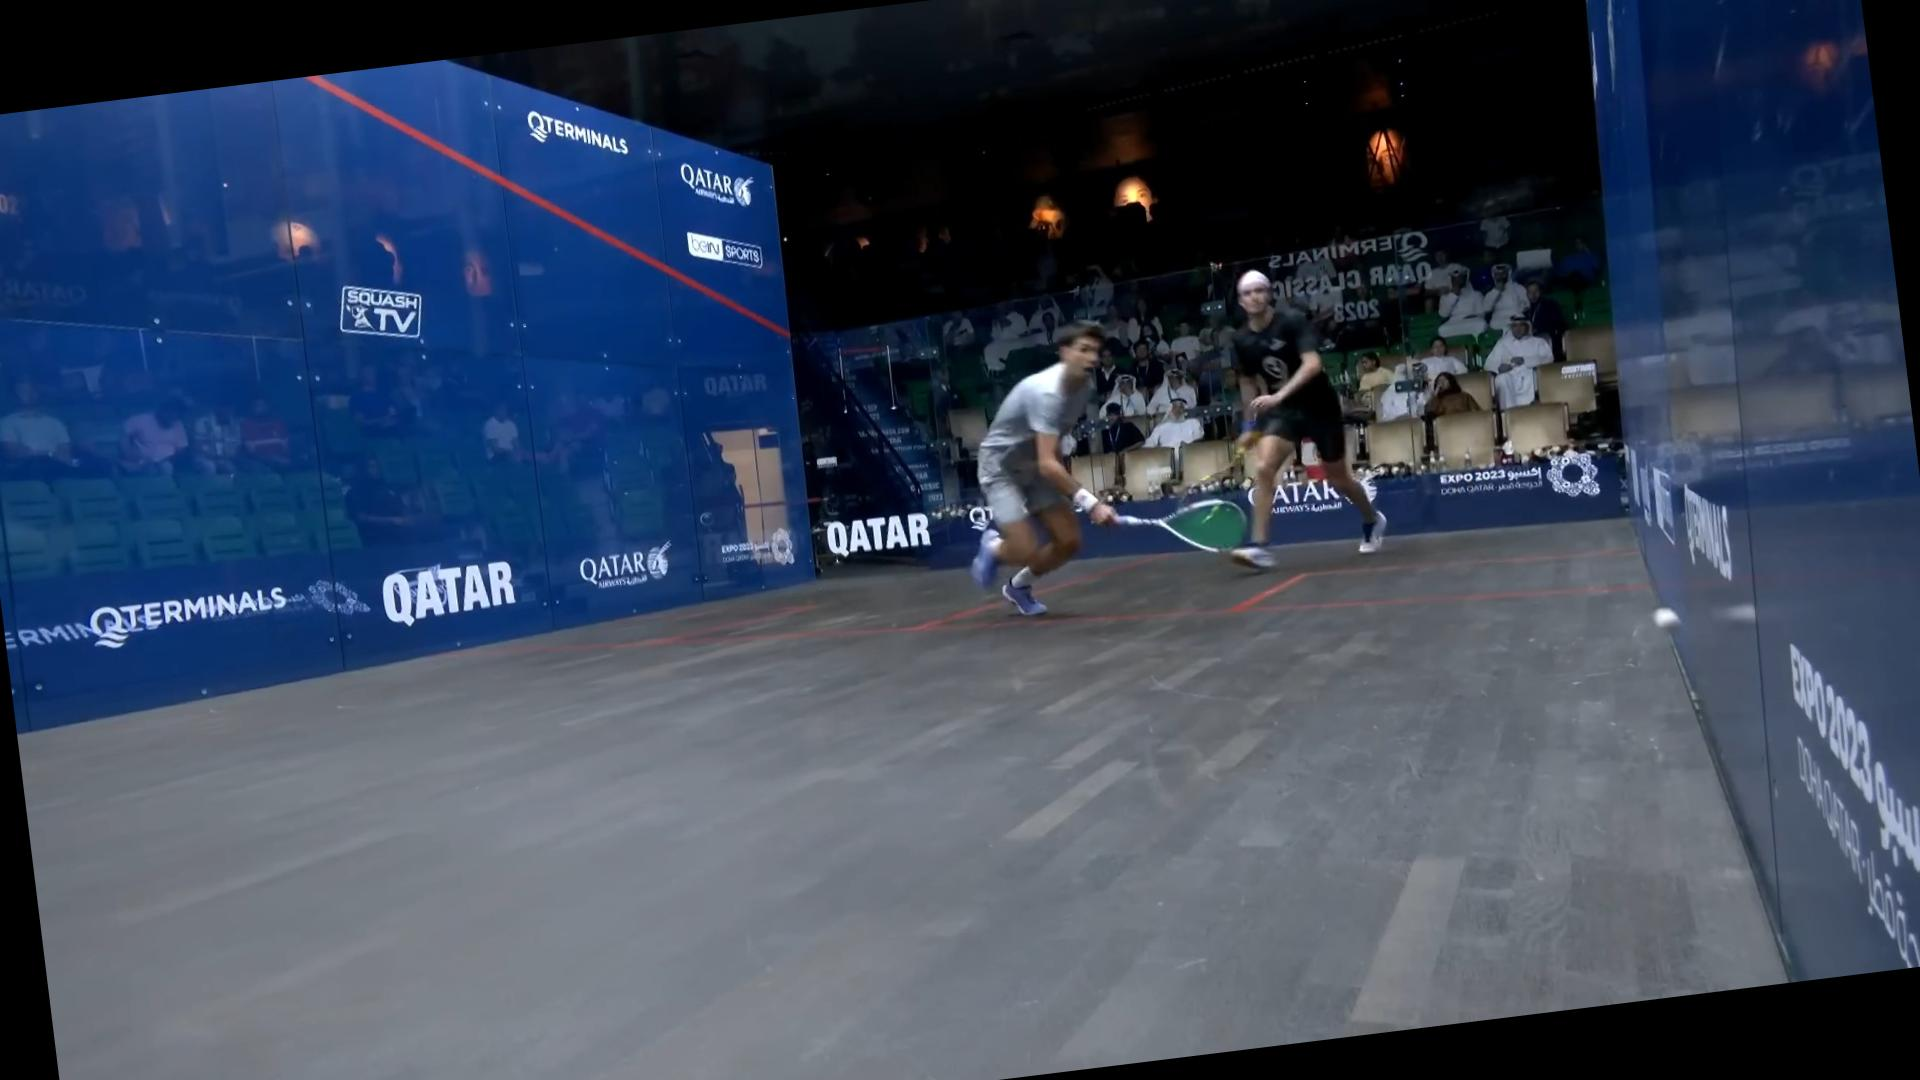Racket: (1102, 472, 1247, 562)
